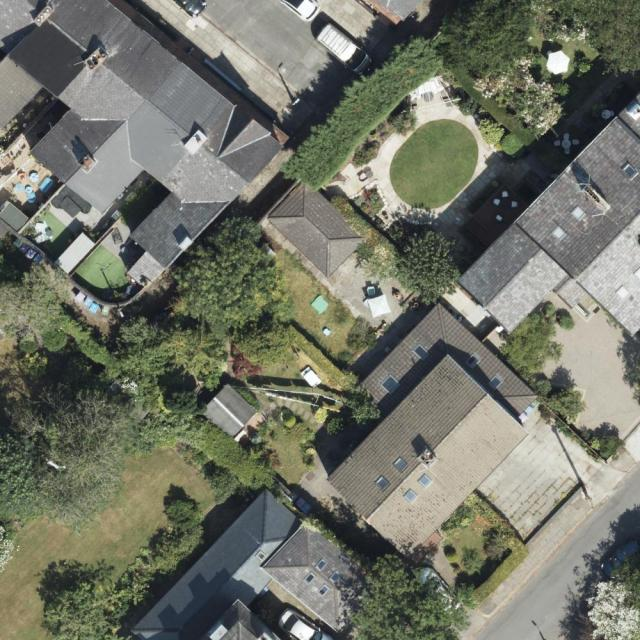roof: (0, 0, 285, 271), (327, 302, 539, 563), (459, 86, 640, 337), (132, 484, 386, 640), (266, 179, 367, 278), (201, 388, 259, 442), (365, 0, 429, 24)
skylight: (377, 372, 402, 395), (413, 344, 432, 362), (550, 225, 568, 244), (464, 351, 482, 369), (373, 474, 390, 492), (488, 374, 506, 391), (621, 162, 638, 180), (404, 487, 420, 505), (569, 206, 587, 222), (392, 456, 408, 473), (301, 570, 316, 586), (328, 570, 343, 586), (613, 285, 628, 300), (314, 556, 328, 572), (317, 582, 331, 597), (254, 549, 267, 565), (419, 474, 433, 488), (635, 265, 640, 283)
